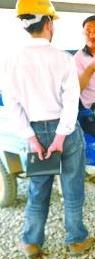boots: (16, 240, 40, 259), (1, 1, 1, 1)
hard-hat: (14, 0, 59, 19)
